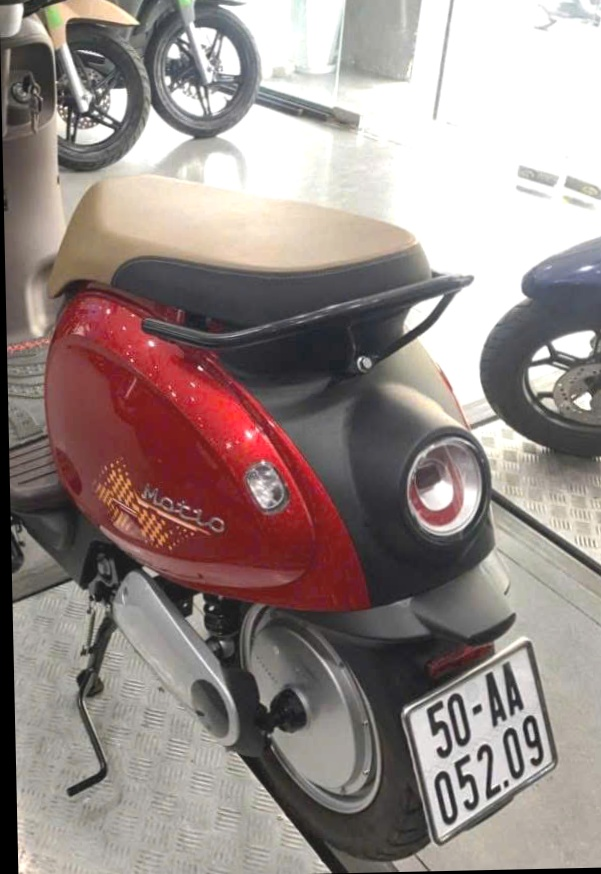Bien-so: (411, 644, 594, 851)
